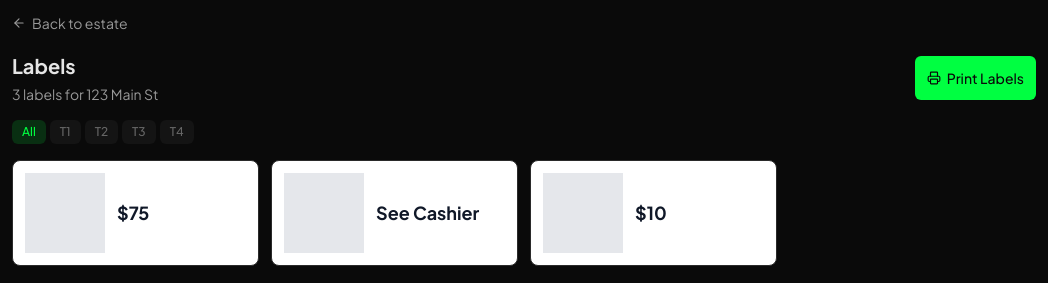
Test case: LabelsView › shows all items when All filter clicked after filtering
Click the button "T3" at [139, 132], box [122,120,156,144]
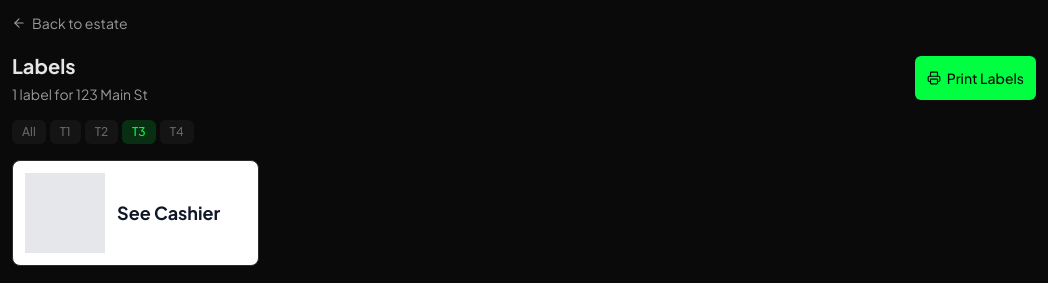
Note: The "All" button in tier-filters — need to find the first one
Click the button "All" at [29, 132], box [12,120,46,144]
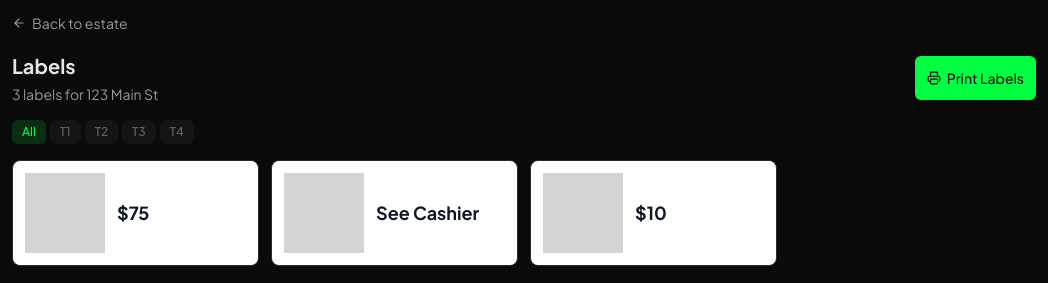
Check: the number of elements with test id "item-label" is 3, box [12,160,259,266]; [271,160,518,266]; [530,160,777,266]
